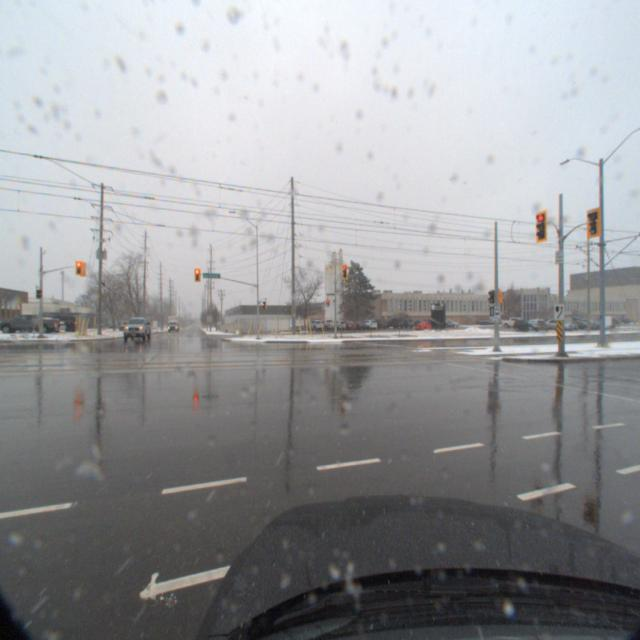Car: (6, 312, 70, 334)
Truck: (128, 317, 158, 340)
